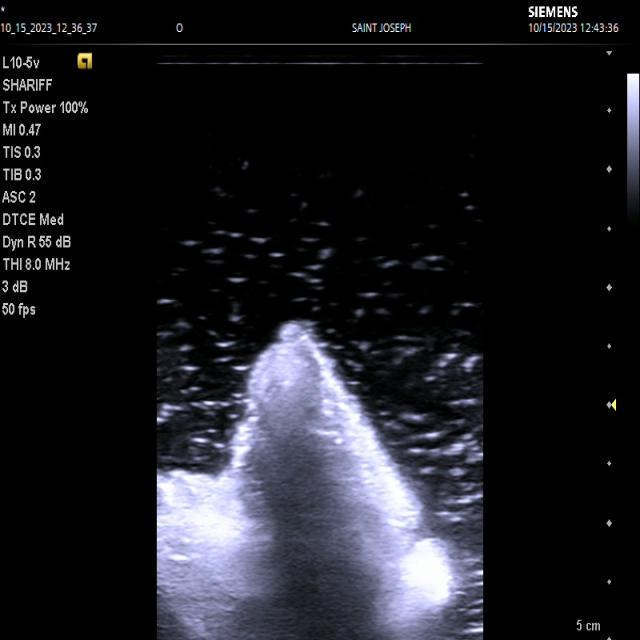tissue: (157, 321, 450, 640)
